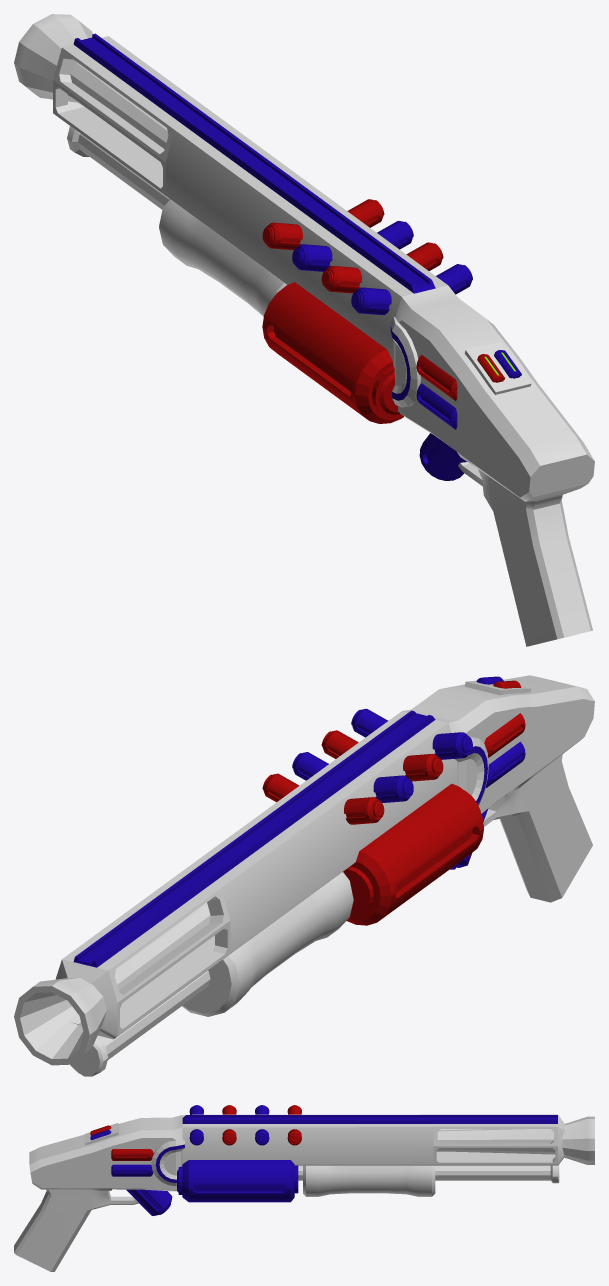
The model's file is Shotgun.fbx.
3 views of the same model, one above another, from view 1: azimuth 30°, elevation 25°; view 2: azimuth 150°, elevation 25°; view 3: azimuth 270°, elevation 25° (orthographic). The views are drawn at different scales.
Visible parts, largest first — view 1: pCylinder44, pCylinder32; view 2: pCylinder44; view 3: pCylinder44, pCylinder32.
Part boxes in pixels (left/top/right/bottom): pCylinder44: left=14, top=14, right=594, bottom=646; pCylinder32: left=419, top=433, right=466, bottom=480; pCylinder44: left=14, top=675, right=594, bottom=1076; pCylinder44: left=14, top=1105, right=594, bottom=1271; pCylinder32: left=126, top=1189, right=172, bottom=1215.
Bounding box in the file's own units: 3.33 × 6.75 × 23.45.
